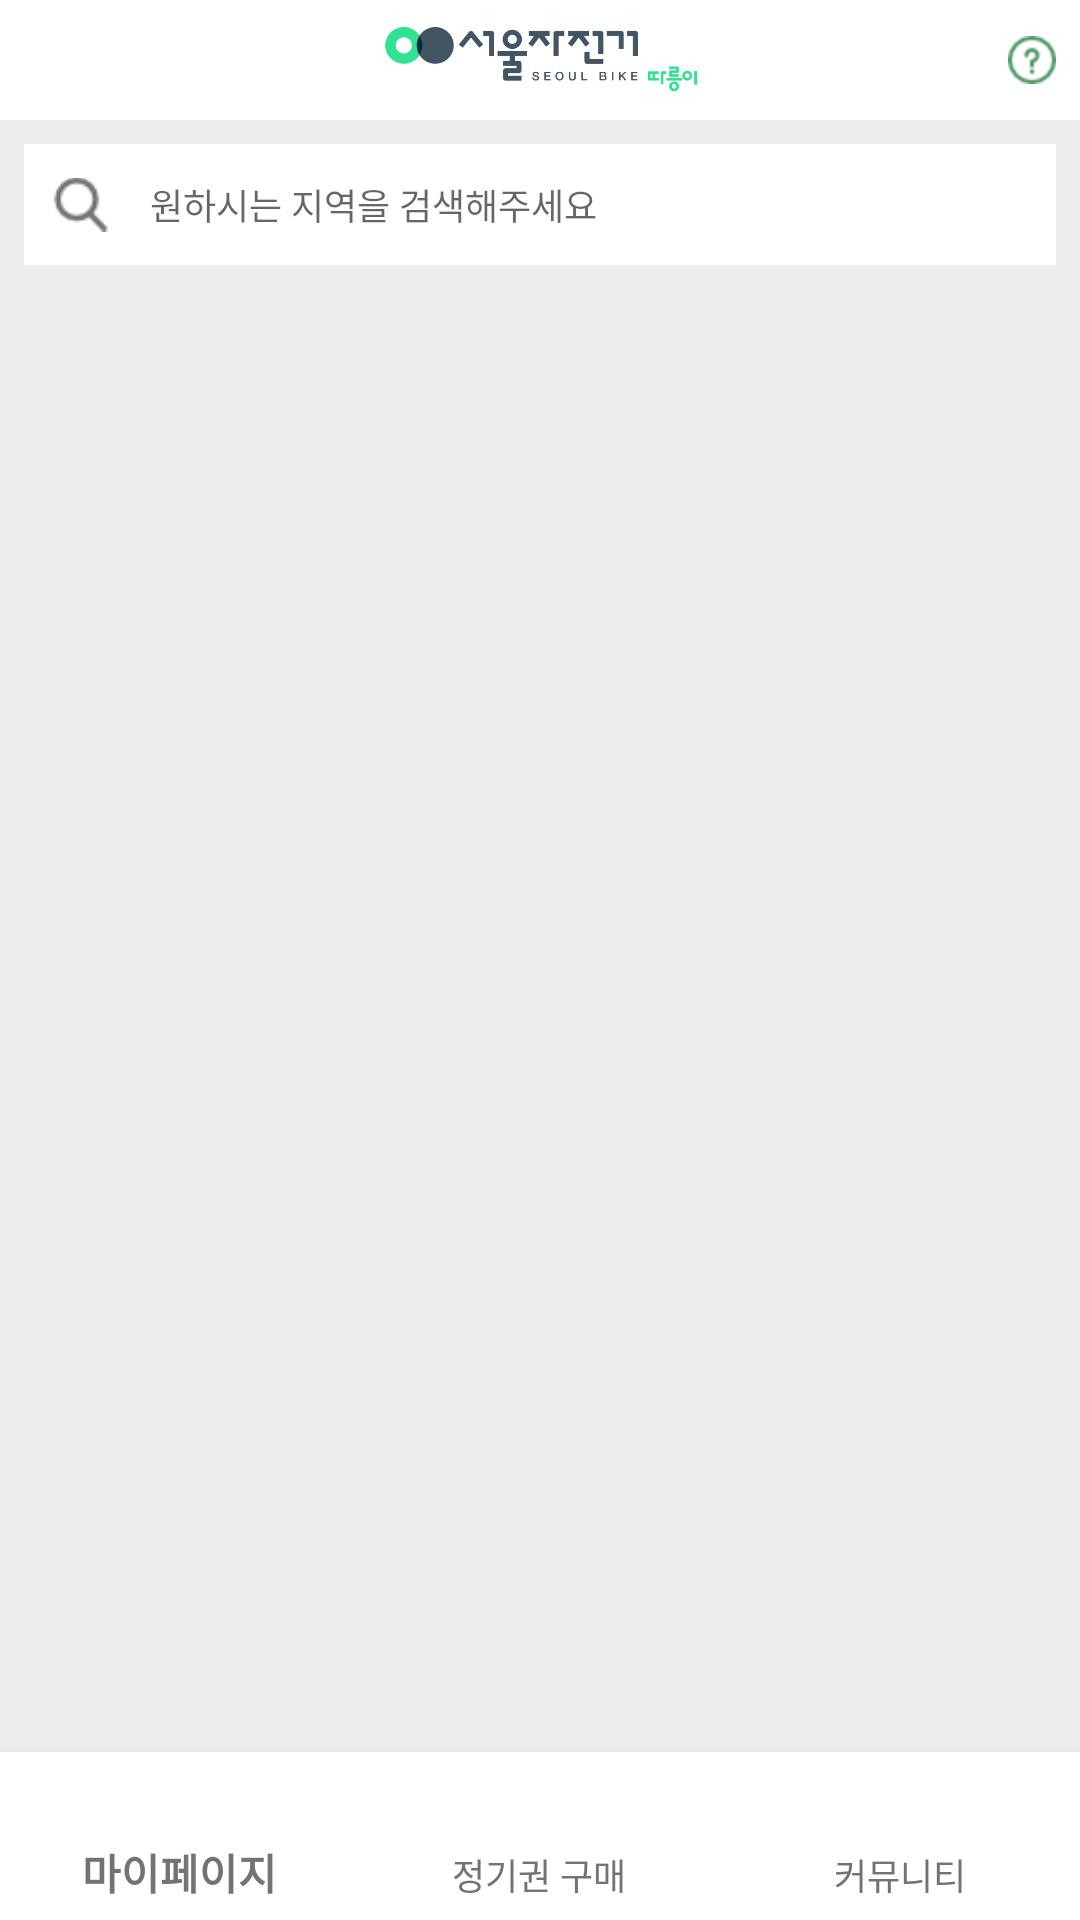

Named icons in this screenshot (1080w x 1920h) and their centers, (x,y):
question: (1032,60)
